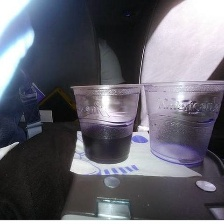glass: (142, 74, 224, 170), (66, 79, 144, 167)
